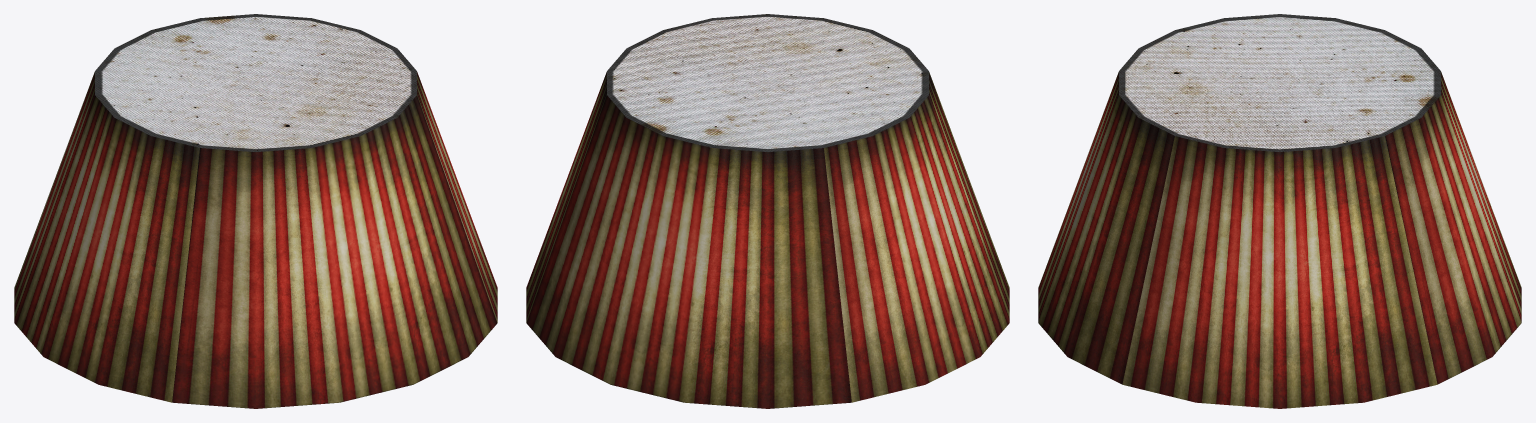
Rendered from Pedestal.FBX.
3 views of the same model, side by side, from view 1: azimuth 30°, elevation 25°; view 2: azimuth 150°, elevation 25°; view 3: azimuth 270°, elevation 25° (orthographic).
Parts seen in each view (by area): view 1: Cone001; view 2: Cone001; view 3: Cone001.
Boxes of the visible parts, x1,y1,x2,y2 form: Cone001: [14, 14, 497, 408]; Cone001: [526, 14, 1009, 408]; Cone001: [1038, 14, 1521, 408].
Bounding box in the file's own units: 60 × 30 × 59.09.
Materials: 1 (1 with a texture image).
